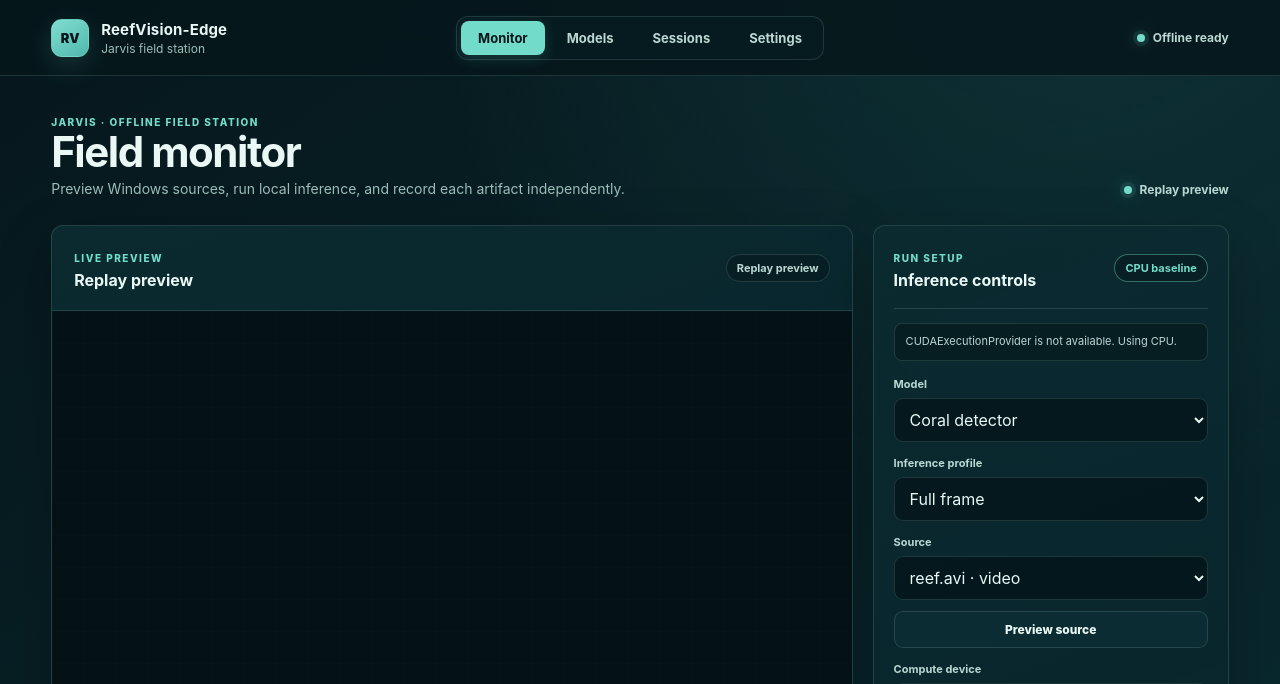
navigates among monitor sessions and settings with runtime state
This screenshot has width=1280, height=684.
Expected: the heading "Field monitor" is shown, [51,126,300,177]
Click the tab "Sessions" at (681, 38), box [636,20,727,54]
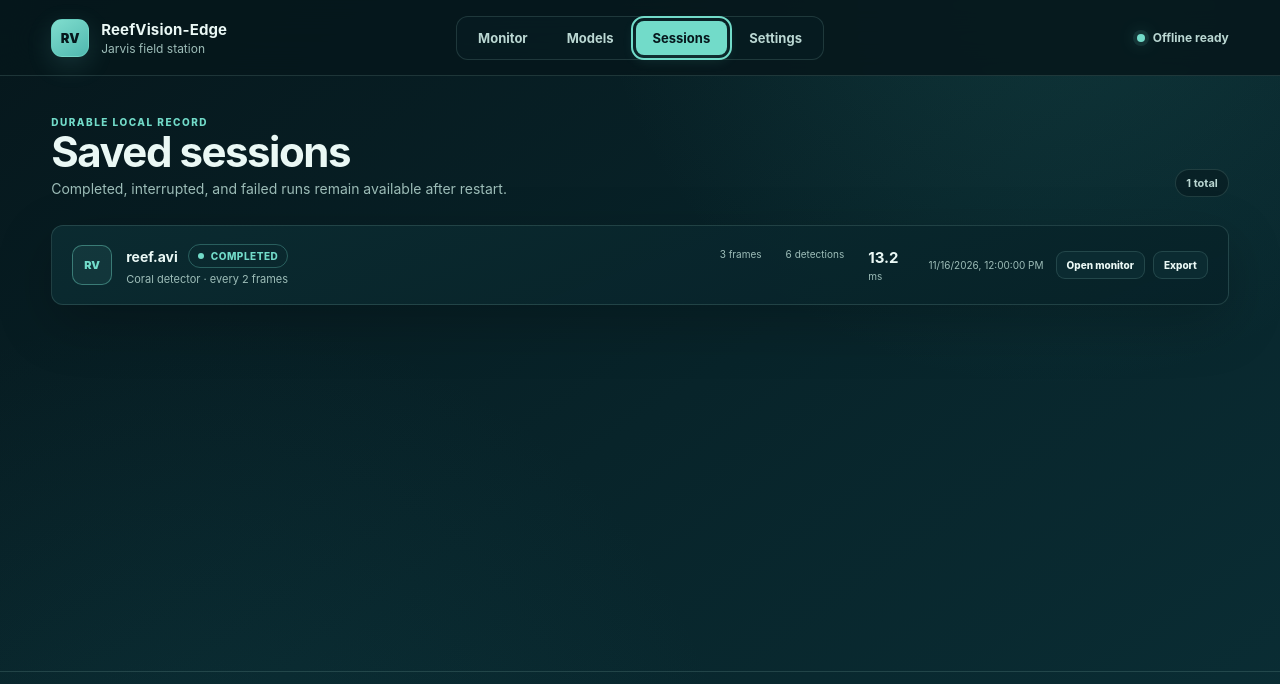
Now the heading "Saved sessions" is shown, box [51,126,350,177]
Now the text "6 detections" is shown, box [786,248,844,260]
Now the message "Completed" is shown, box [188,244,288,268]
Click the tab "Settings" at (776, 38), box [732,20,819,54]
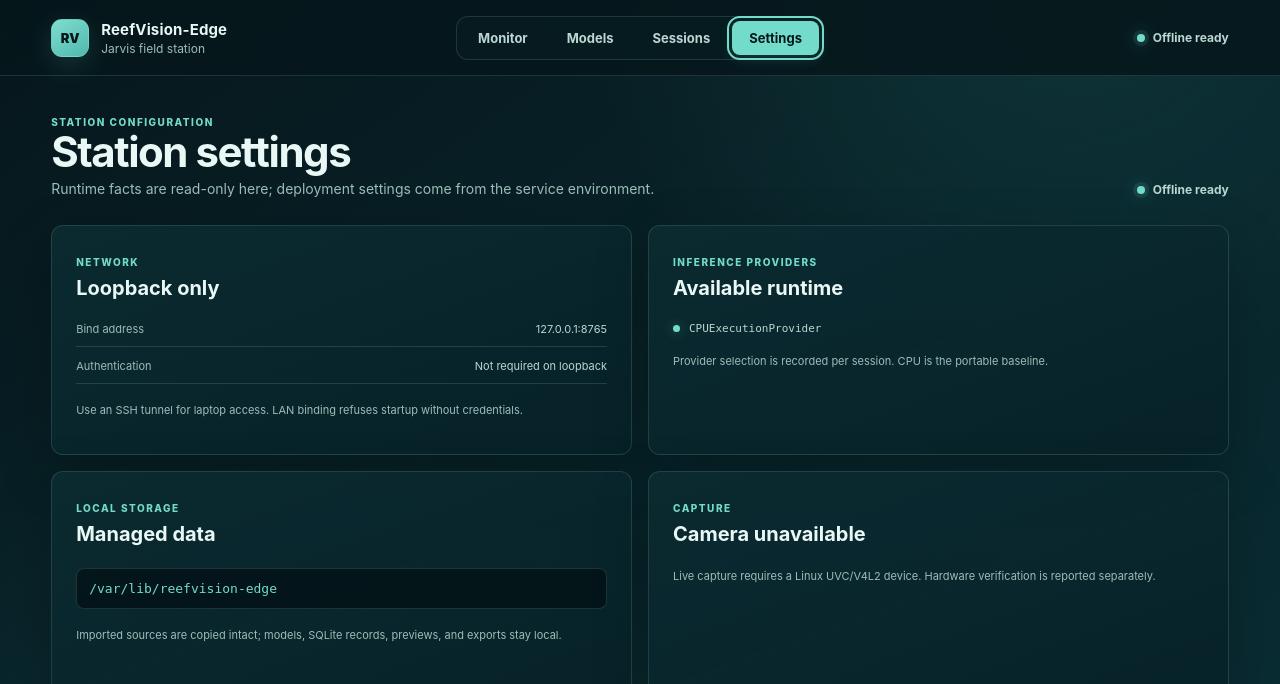
Now the heading "Station settings" is shown, box [51,126,350,177]
Now the list item "CPUExecutionProvider" is shown, box [673,322,822,335]
Now the heading "Loopback only" is shown, box [76,276,220,300]
